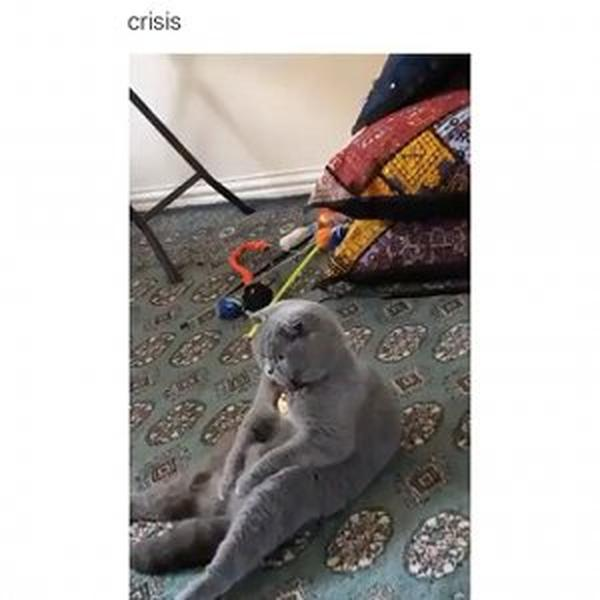michi: (131, 291, 411, 600)
